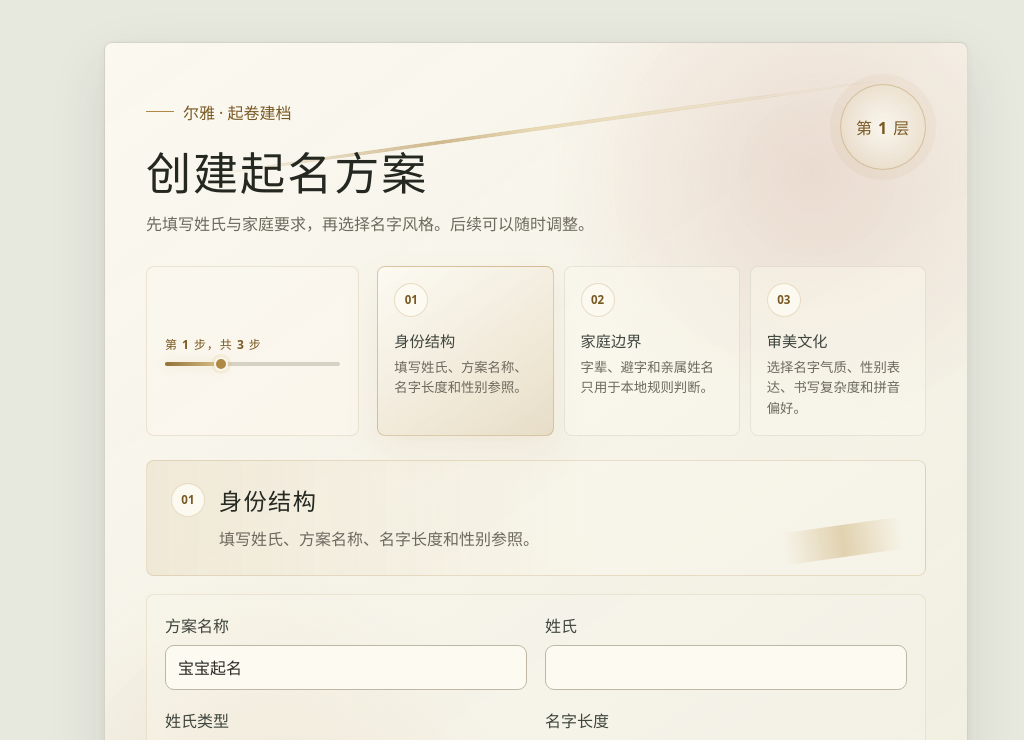
Test: OnboardingWizard › starts without assuming a family surname and derives the untouched title
Expected: the field labelled "方案名称" holds "宝宝起名", x1=165 y1=645 x2=527 y2=690
In the field labelled "姓氏": (726, 667) x1=545 y1=645 x2=907 y2=690, type "陈"
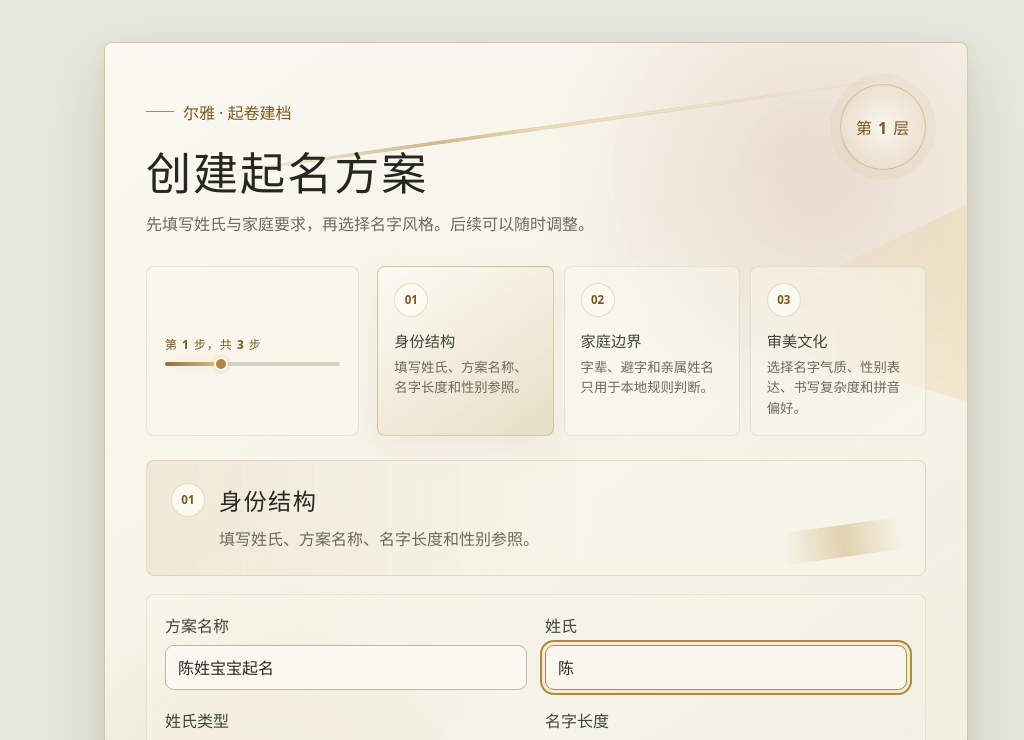
Result: the field labelled "方案名称" holds "陈姓宝宝起名" at x1=165 y1=645 x2=527 y2=690
